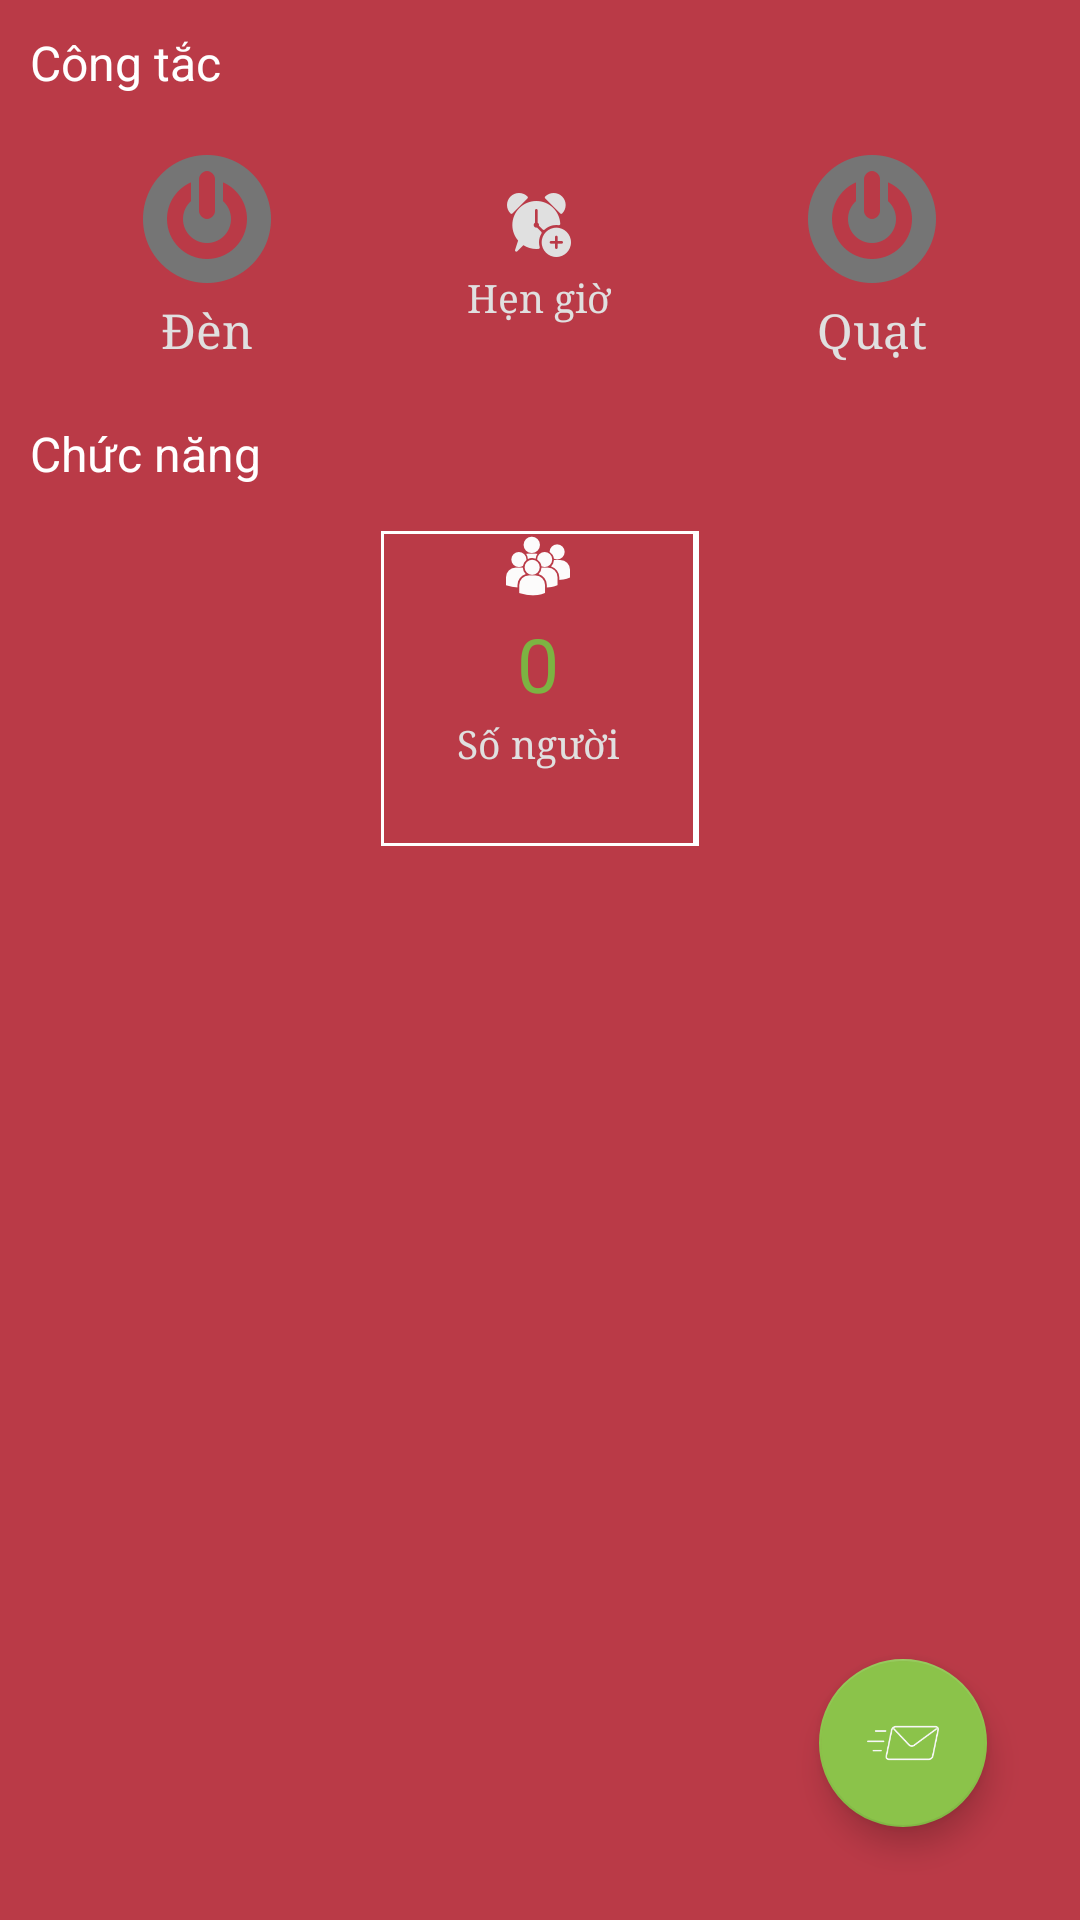

Icons on this 1080px x 1920px Android screen, each with its box as rect(x1, y1, x2, y2):
alarm: rect(507, 193, 571, 257)
human: rect(506, 536, 570, 596)
mail: rect(819, 1659, 987, 1827)
off: rect(143, 155, 271, 283), rect(808, 155, 936, 283)
